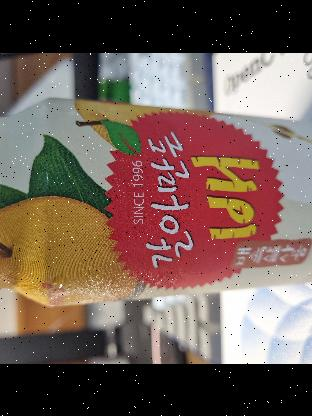Can: (0, 92, 312, 314)
